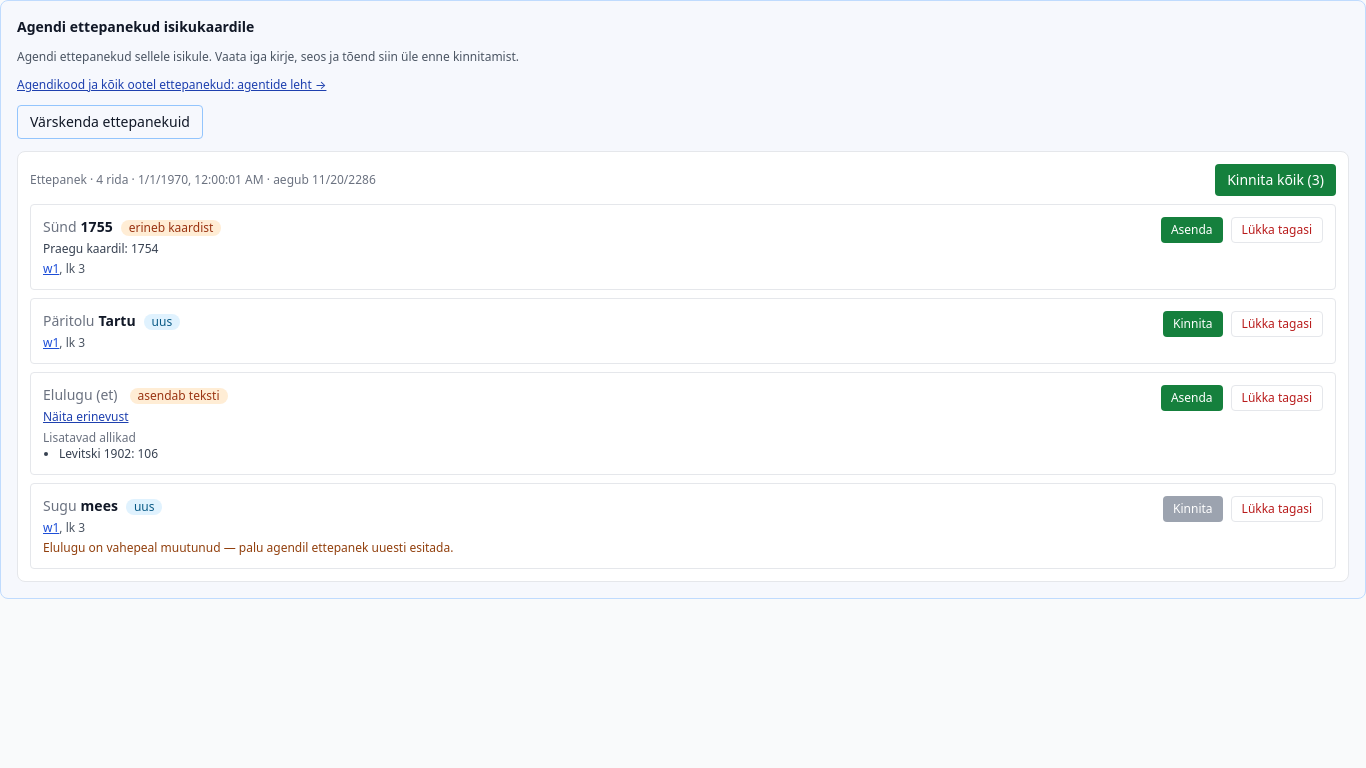
isikukaardi väljade read › elulugu näitab sõnataseme erinevust ja lisatavaid allikaid
The width and height of the screenshot is (1366, 768).
Step 1. Click the button "Näita erinevust" → (86, 417), box x1=43 y1=409 x2=128 y2=425
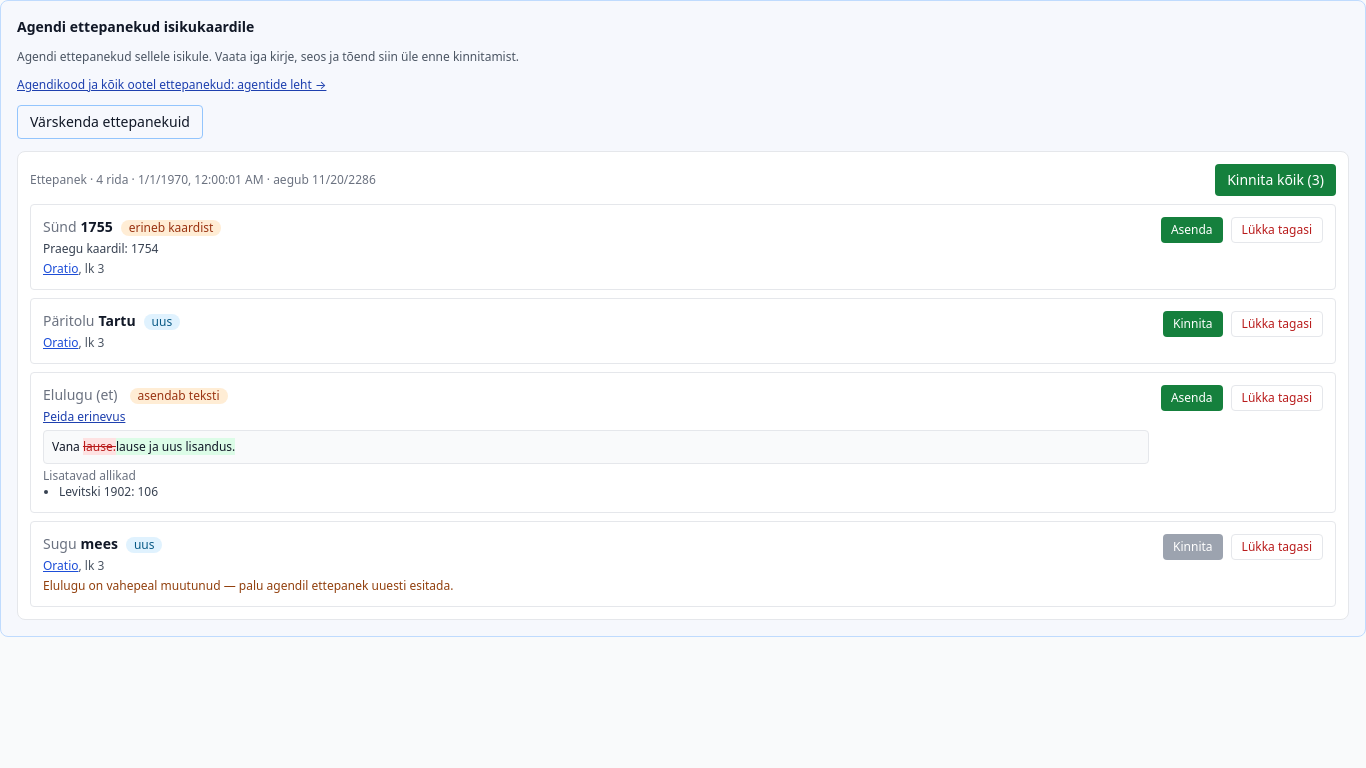
expect the list item "Levitski 1902: 106" is shown: met, box x1=59 y1=483 x2=158 y2=500
expect the text "lause ja uus lisandus." is shown: met, box x1=116 y1=438 x2=235 y2=455
